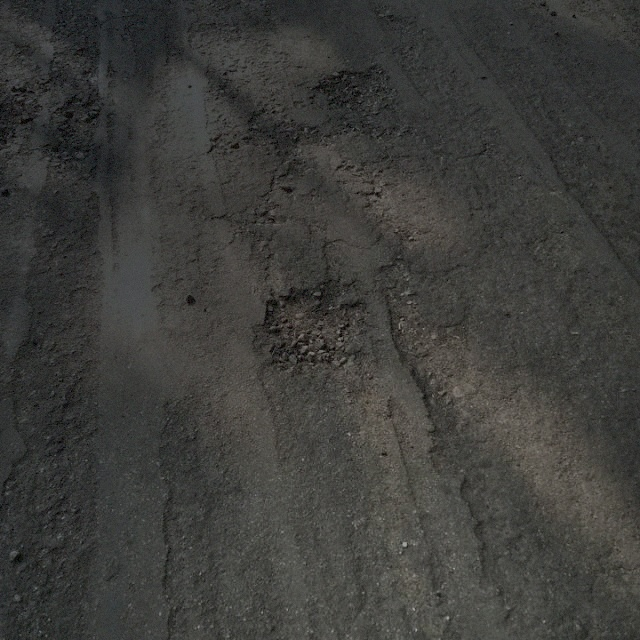pothole: (252, 277, 371, 373), (308, 64, 398, 117)
